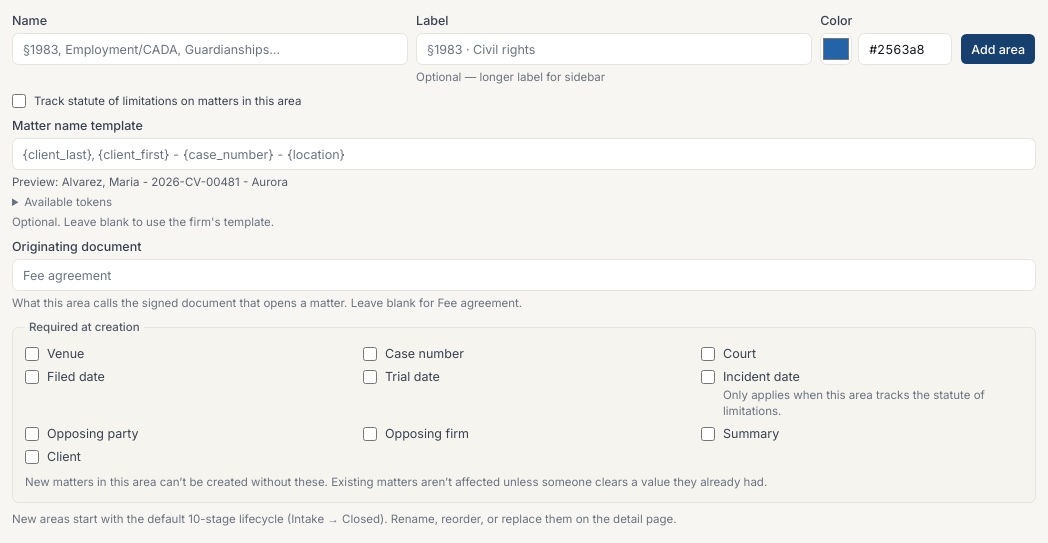
Scenario: CreatePracticeAreaForm required-field hint › shows the incident date hint until SOL tracking is on
The image size is (1048, 543).
Expected: the text "Only applies when this area tracks the statute of limitations" is shown, [723,388,985,418]
Click the checkbox labelled "Track statute of limitations on matters in this area" at (19, 101), box [12,94,26,108]
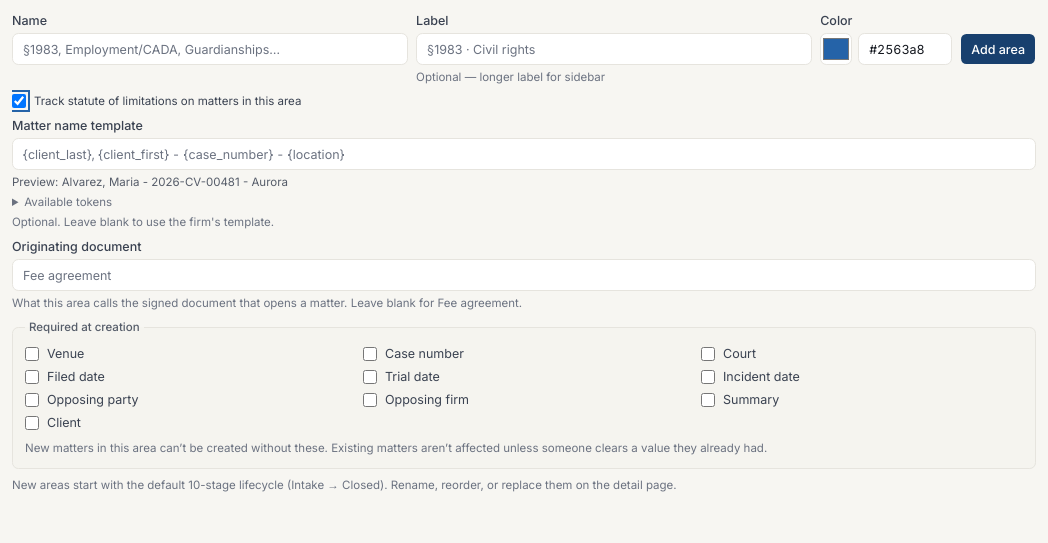
Result: the text "Only applies when this area tracks the statute of limitations" is gone
